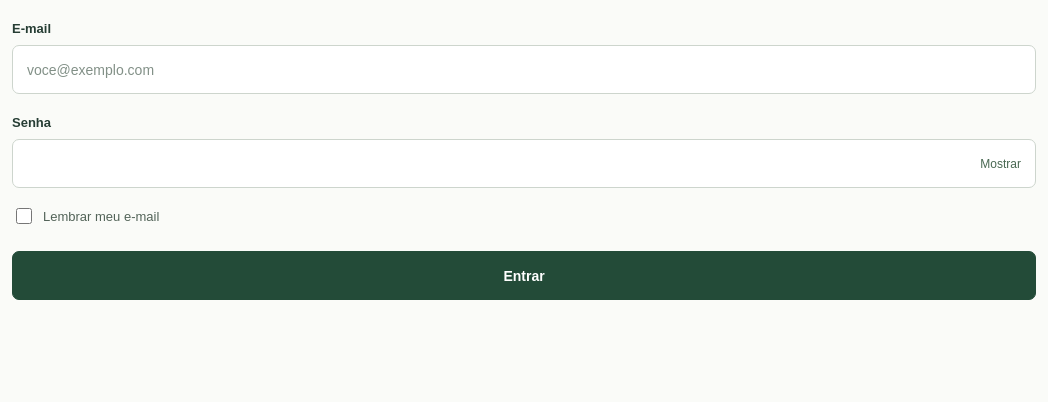
Test case: shows remaining attempts, clears password and keeps email
The image size is (1048, 402).
Type "test@example.com" into the field labelled "E-mail" at (524, 70), box [12,45,1036,94]
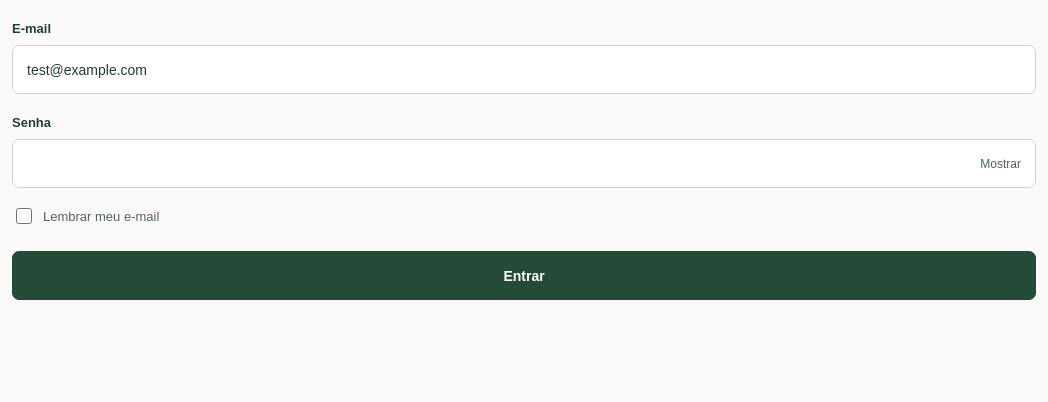
Type "Password123!" into the password field labelled "Senha" at (524, 164), box [12,139,1036,188]
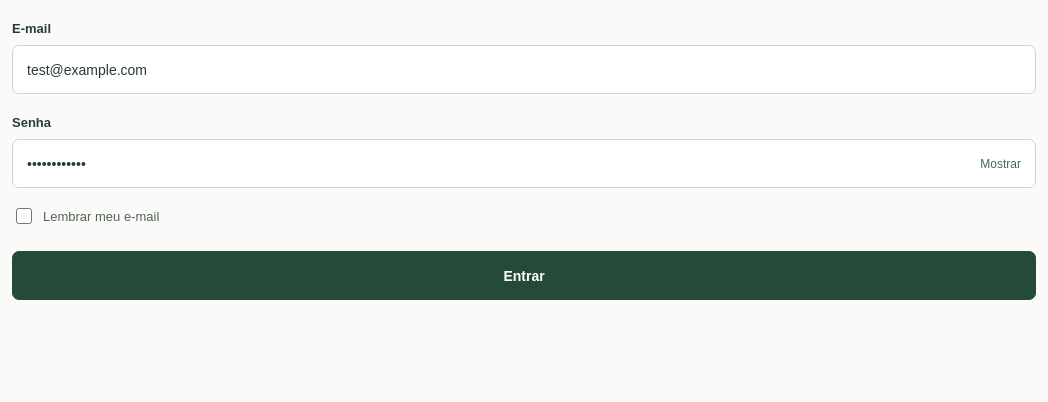
Click the button "Entrar" at (524, 276), box [12,251,1036,300]
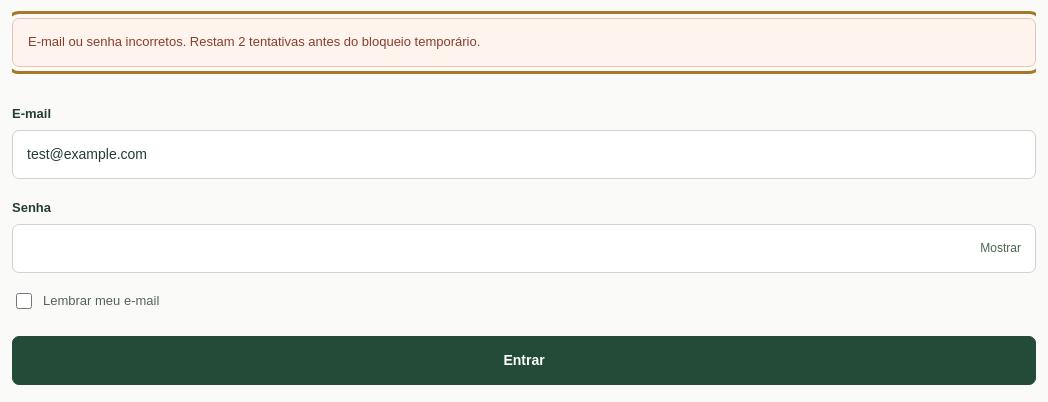
Expected: the message shows "Restam 2 tentativas", [28,34,480,49]
Expected: the password field labelled "Senha" is empty, [12,224,1036,273]
